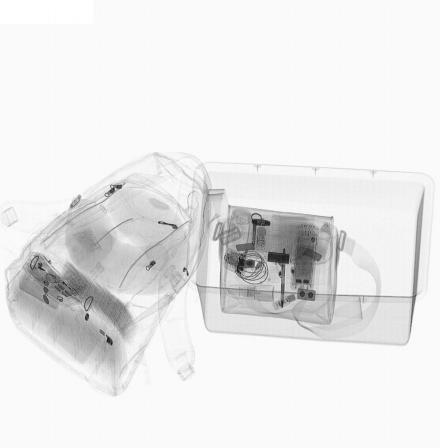Lighter: (44, 264, 81, 301)
